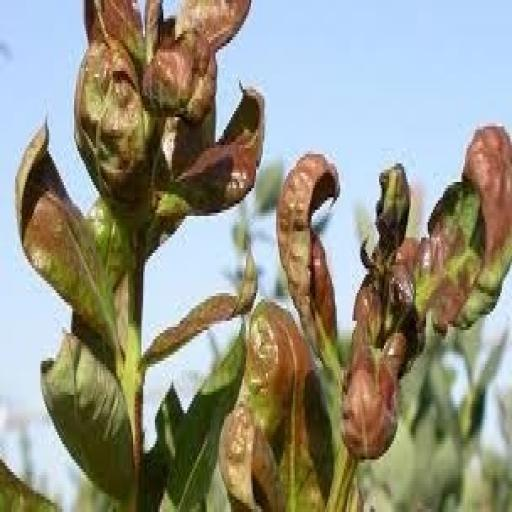thrip: (221, 299, 333, 509), (15, 123, 118, 349), (40, 333, 133, 497), (157, 89, 263, 219), (141, 250, 254, 367), (276, 154, 339, 355), (406, 182, 482, 330), (455, 126, 510, 324), (342, 321, 403, 456), (143, 28, 216, 120)
